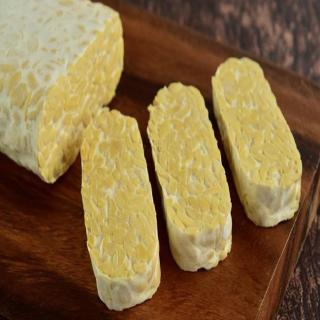Tempe: (1, 1, 125, 185), (81, 108, 162, 312), (148, 81, 234, 273), (212, 56, 303, 228)
